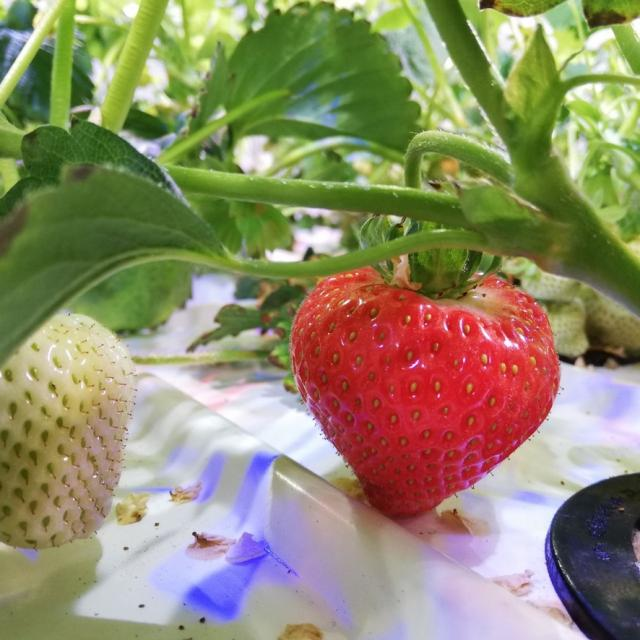Healthy Fruit: (289, 273, 561, 520), (0, 312, 137, 553)
